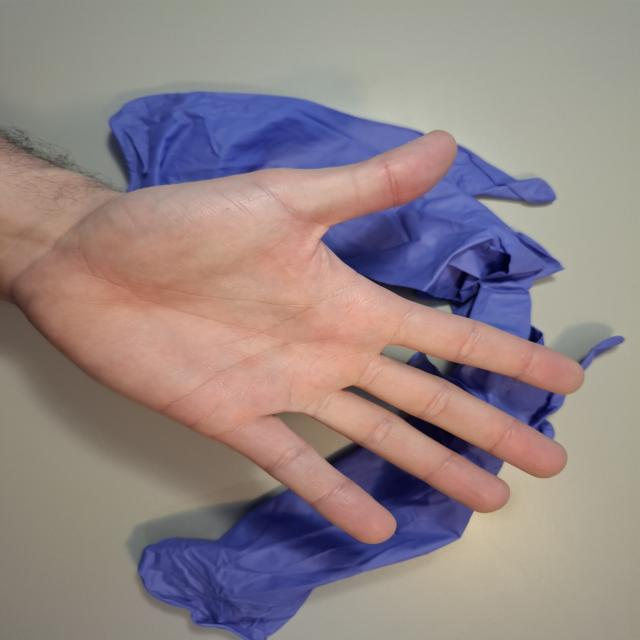glove_off: (9, 126, 588, 546)
